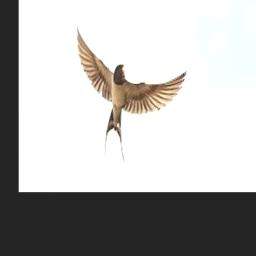Swallow: (76, 26, 186, 164)
